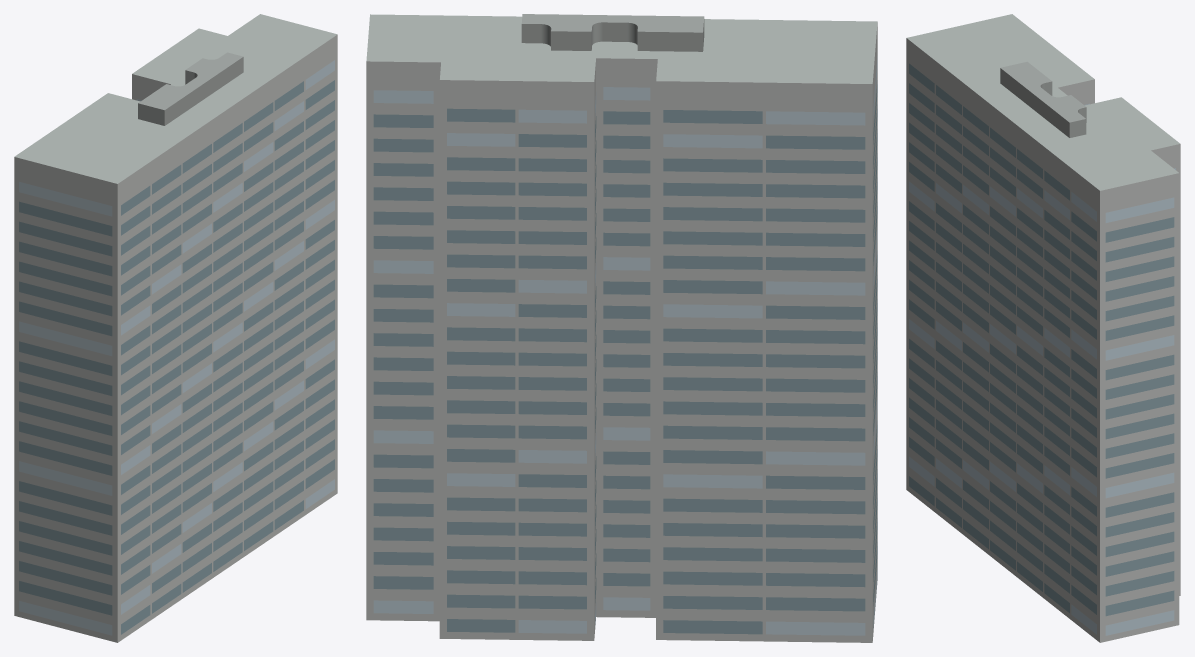
File: fallback-onebailey-113.glb
The picture shows the model from 3 angles, left to right: view 1: azimuth 30°, elevation 25°; view 2: azimuth 150°, elevation 25°; view 3: azimuth 270°, elevation 25°; orthographic projection. The views are drawn at different scales.
Parts seen in each view (by area): view 1: fallback-onebailey-113; view 2: fallback-onebailey-113; view 3: fallback-onebailey-113.
Boxes of the visible parts, box(x1,y1,x2,y2) form: fallback-onebailey-113: box(14, 14, 337, 642); fallback-onebailey-113: box(366, 14, 877, 642); fallback-onebailey-113: box(906, 14, 1180, 642).
Size of the model in its own units: 58.43 by 72 by 38.25.
